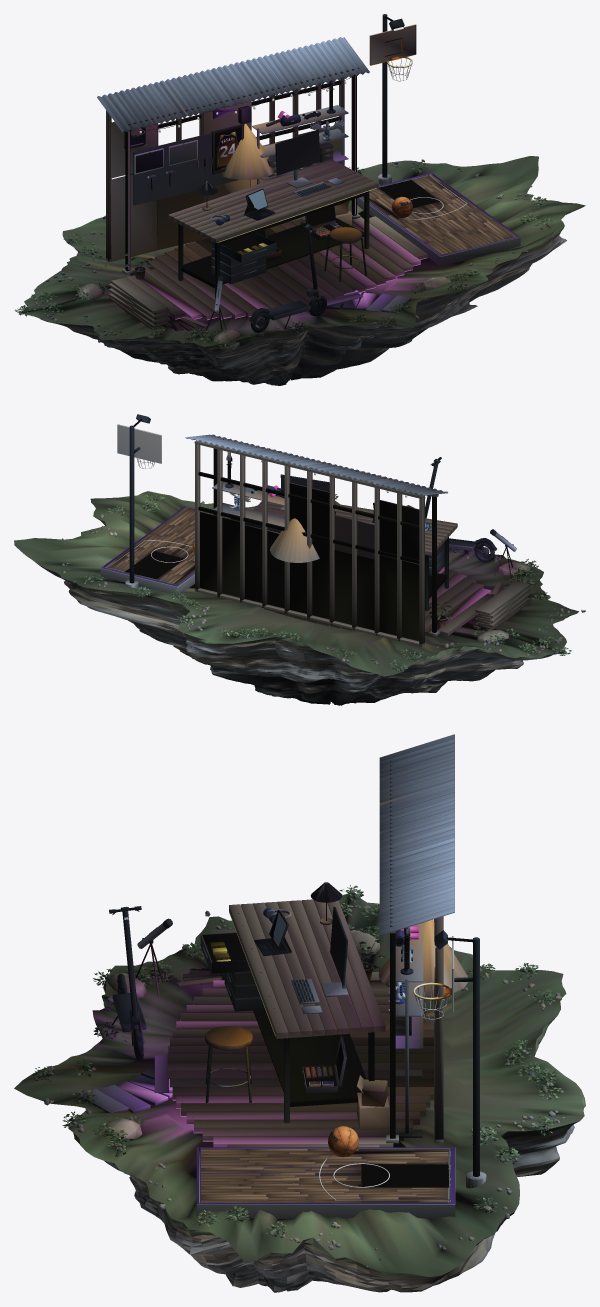
File: flight-projects-fa579238.glb
3 views of the same model, one above another, from view 1: azimuth 30°, elevation 25°; view 2: azimuth 150°, elevation 25°; view 3: azimuth 270°, elevation 25° (orthographic). The views are drawn at different scales.
Parts seen in each view (by area): view 1: Projects island · flight.001; view 2: Projects island · flight.001; view 3: Projects island · flight.001.
Boxes of the visible parts, x1,y1,x2,y2 form: Projects island · flight.001: (14, 14, 585, 385); Projects island · flight.001: (14, 414, 585, 705); Projects island · flight.001: (14, 734, 585, 1292).
Bounding box in the file's own units: 14.35 × 7.34 × 8.83.
